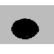correct: (8, 17, 39, 40)
